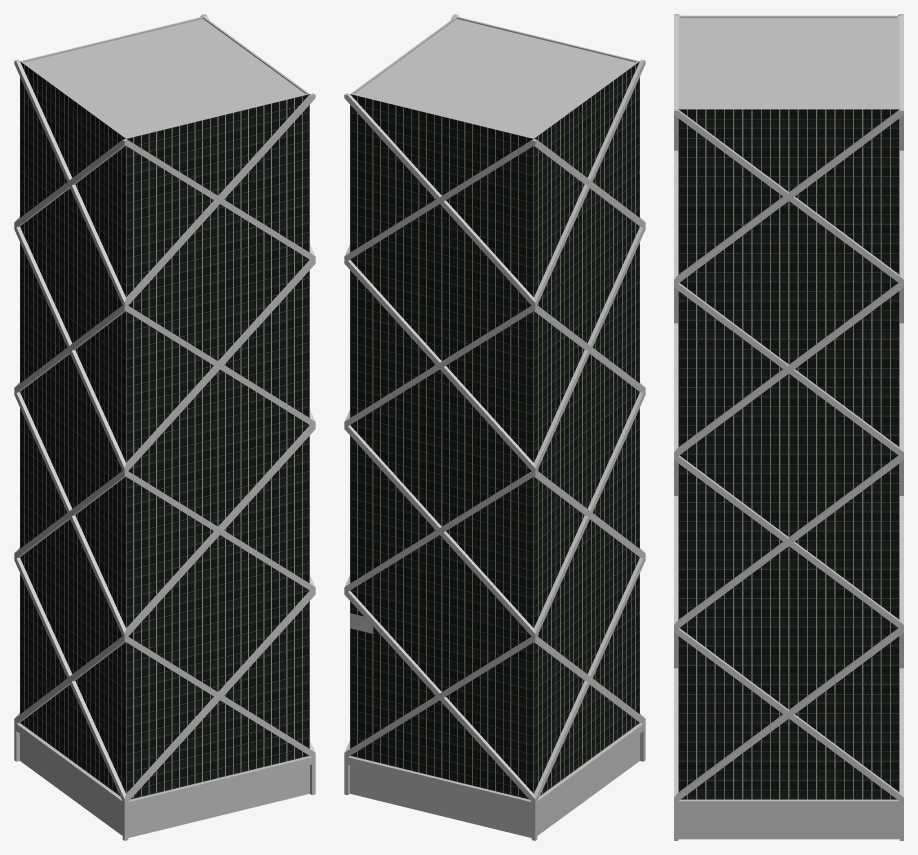
3 renders of one model, left to right at view 1: azimuth 30°, elevation 25°; view 2: azimuth 150°, elevation 25°; view 3: azimuth 270°, elevation 25°, orthographic. The views are drawn at different scales.
Visible parts, largest first — view 1: EC-021; view 2: EC-021; view 3: EC-021.
Part boxes in pixels (<box>): EC-021: <box>14,14,315,840</box>; EC-021: <box>344,14,645,840</box>; EC-021: <box>674,14,903,840</box>.
Size of what is drawn, in the model's own units: 32.6 by 114 by 32.6.
